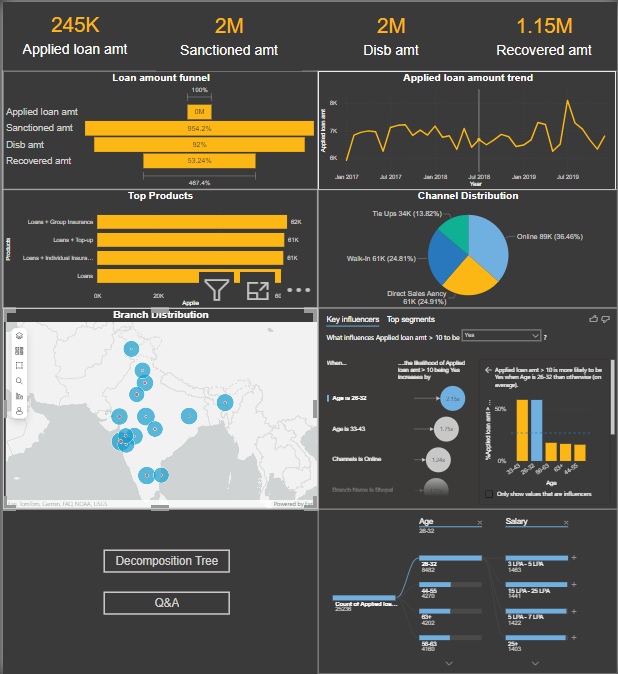

The dashboard page shown, as its layout file describes it:
{"tool":"powerbi","page":{"name":"Page 1","canvas":[1280,1400],"ordinal":0},"visuals":[{"type":"cardVisual","title":"Appled Loan Amount","fields":{"Data":["Customer.Applied loan amt"]},"box":[0,0,300,140],"z":0},{"type":"funnel","title":"Loan amount funnel","fields":{"Y":["Customer.Applied loan amt","Sanction Data.Sanctioned amt","Sanction Data.Disb amt","Recovery Data.Recovered amt"]},"box":[0,143.3,656.7,246.7],"z":1000},{"type":"cardVisual","title":"Appled Loan Amount","fields":{"Data":["Sanction Data.Disb amt"]},"box":[656,0,304,144],"z":2000},{"type":"cardVisual","title":"Appled Loan Amount","fields":{"Data":["Sanction Data.Sanctioned amt"]},"box":[320,0,304,144],"z":3000},{"type":"cardVisual","title":"Appled Loan Amount","fields":{"Data":["Recovery Data.Recovered amt"]},"box":[976,0,304,144],"z":4000},{"type":"lineChart","title":"Applied loan amount trend","fields":{"Y":["Customer.Applied loan amt"],"Category":["Dates.Month yr.Variation.Date Hierarchy.Year","Dates.Month yr.Variation.Date Hierarchy.Quarter","Dates.Month yr.Variation.Date Hierarchy.Month","Dates.Month yr.Variation.Date Hierarchy.Day"]},"box":[655.4,143.9,624.1,247.1],"z":5000},{"type":"barChart","title":"Top Products","fields":{"Y":["Customer.Applied loan amt"],"Category":["Product.Products"]},"box":[0,391,655.4,247.1],"z":6000},{"type":"pieChart","title":"Channel Distribution","fields":{"Y":["Customer.Applied loan amt"],"Category":["Channel.Channels"]},"box":[655.4,391,624.1,247.1],"z":7000},{"type":"esriVisual","title":"Branch Distribution","fields":{"Size":["Customer.Applied loan amt"],"Latitude":["Branch.Branch Latitute"],"Longitude":["Branch.Branch Longitude"],"Color":["Customer.Applied loan amt > 10"]},"box":[0,636.7,656.7,420],"z":8000},{"type":"keyDriversVisual","title":"Top Products","fields":{"Target":["Customer.Applied loan amt > 10"],"ExplainBy":["Customer.Age","Customer.Gender","Customer.Occupation","Customer.Salary","Product.Products","Branch.Branch Name","Channel.Channels"]},"box":[656,636,624,420],"z":9000},{"type":"decompositionTreeVisual","title":"Top Products","fields":{"ExplainBy":["Customer.Age","Customer.Salary","Customer.Gender","Customer.Occupation","Product.Products","Branch.Branch Name","Channel.Channels"],"Analyze":["Customer.Applied loan amt > 10"]},"box":[656,1056,624,344],"z":10000},{"type":"actionButton","title":"Decomposition Tree","box":[208.3,1140,263.3,48.3],"z":12000},{"type":"actionButton","title":"Decomposition Tree","box":[208.3,1228.3,263.3,48.3],"z":13000}]}

Visuals, with their boxes in screenshot pixels (x1, y1, x2, y2), scaled from the page's 1280x1400 canvas onto the 618x674 screenshot:
"Appled Loan Amount" cardVisual: bbox=[0, 0, 145, 67]
"Loan amount funnel" funnel: bbox=[0, 69, 317, 188]
"Appled Loan Amount" cardVisual: bbox=[317, 0, 464, 69]
"Appled Loan Amount" cardVisual: bbox=[154, 0, 301, 69]
"Appled Loan Amount" cardVisual: bbox=[471, 0, 617, 69]
"Applied loan amount trend" lineChart: bbox=[316, 69, 617, 188]
"Top Products" barChart: bbox=[0, 188, 316, 307]
"Channel Distribution" pieChart: bbox=[316, 188, 617, 307]
"Branch Distribution" esriVisual: bbox=[0, 307, 317, 509]
"Top Products" keyDriversVisual: bbox=[317, 306, 617, 508]
"Top Products" decompositionTreeVisual: bbox=[317, 508, 617, 673]
"Decomposition Tree" actionButton: bbox=[101, 549, 228, 572]
"Decomposition Tree" actionButton: bbox=[101, 591, 228, 615]
